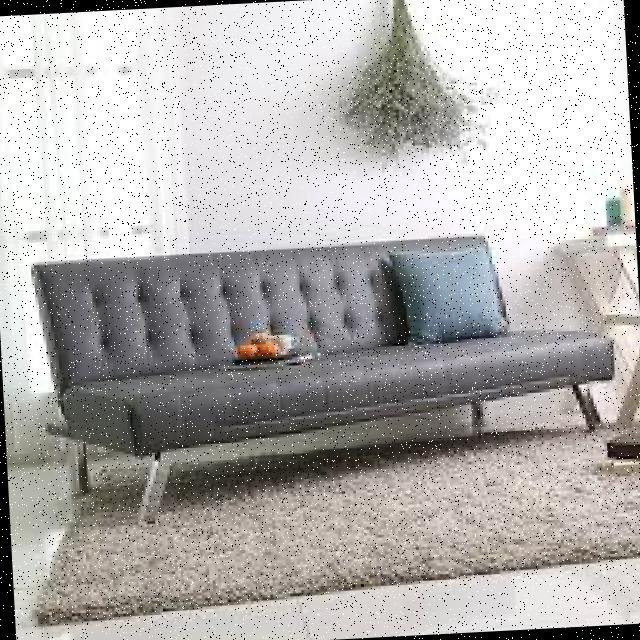Sofa: (13, 210, 634, 530)
